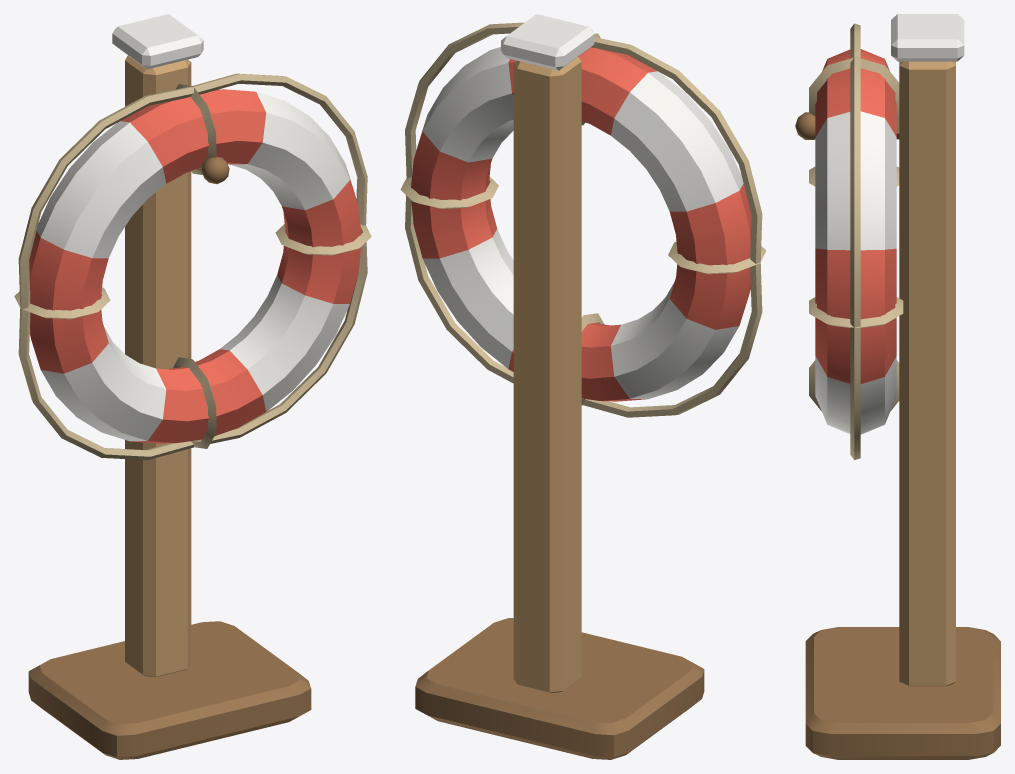
File: furn_lifebuoy.glb
The picture shows the model from 3 angles, left to right: view 1: azimuth 30°, elevation 25°; view 2: azimuth 150°, elevation 25°; view 3: azimuth 270°, elevation 25°; orthographic projection. The views are drawn at different scales.
Parts seen in each view (by area): view 1: furn_lifebuoy_body; view 2: furn_lifebuoy_body; view 3: furn_lifebuoy_body.
Part boxes in pixels (x1,y1,x2,y2): furn_lifebuoy_body: (14, 14, 371, 759); furn_lifebuoy_body: (400, 14, 766, 759); furn_lifebuoy_body: (795, 14, 1000, 759).
Bounding box in the file's own units: 0.5058 × 0.93 × 0.253.
